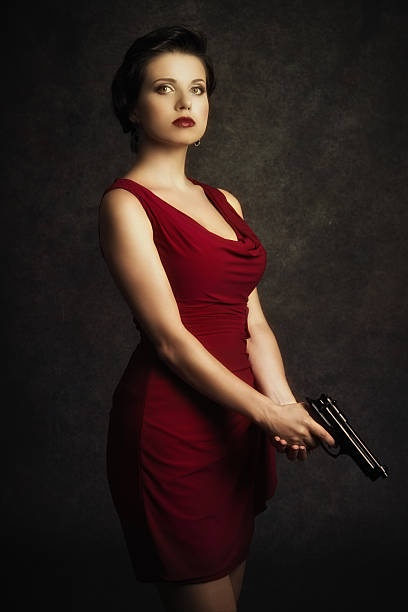person: (94, 25, 314, 612)
pistol: (276, 390, 390, 487)
